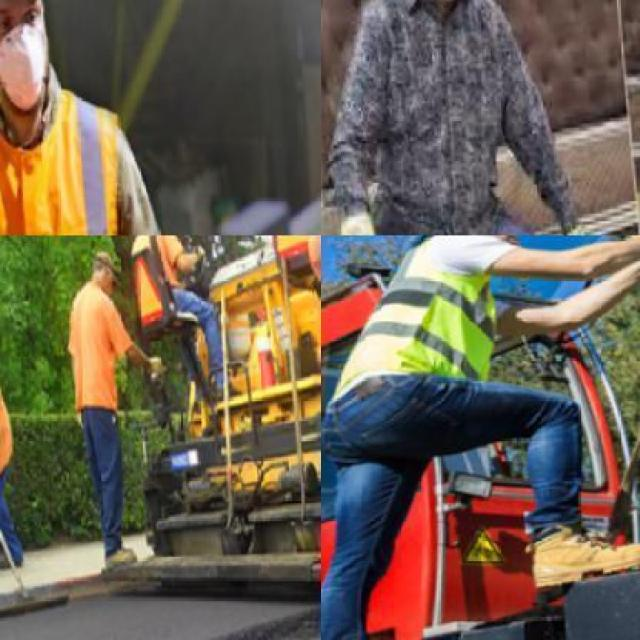Vest: (320, 235, 506, 397), (0, 84, 152, 233), (66, 280, 120, 420), (128, 236, 186, 316), (0, 364, 15, 492)
